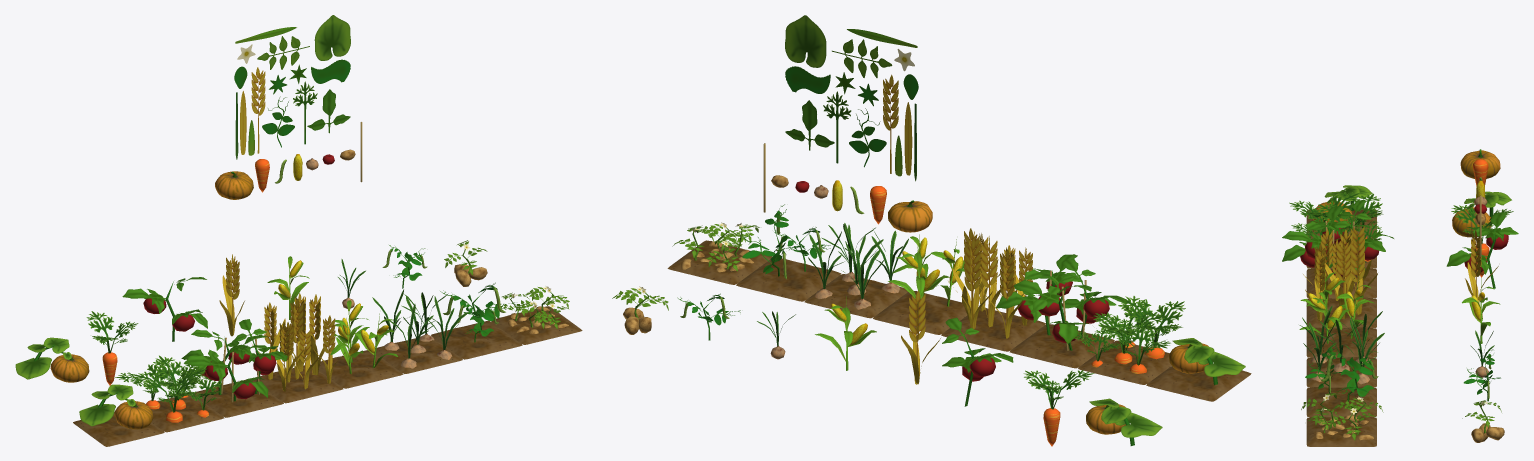
Rendered from farm_plants.glb.
3 views of the same model, side by side, from view 1: azimuth 30°, elevation 25°; view 2: azimuth 150°, elevation 25°; view 3: azimuth 270°, elevation 25° (orthographic). The views are drawn at different scales.
Visible parts, largest first — view 1: Bed_low, Wheat, Tomato, Carrot, Onion, Pumpkin_single, Pumpkin, Corn, Potato, Tomato_single, Pumpkin_leaf, Peas (+10 smaller); view 2: Bed_low, Tomato, Wheat, Carrot, Onion, Potato, Pumpkin_single, Pumpkin, Corn, Pumpkin_leaf, Tomato_single, Peas (+10 smaller); view 3: Bed_low, Wheat, Tomato, Carrot, Onion, Potato, Corn, Peas, Tomato_single, Pumpkin_single, Potato_single, Pumpkin_low (+7 smaller).
Part boxes in pixels (box(x1,y1,x2,y2)): Bed_low: box(73, 306, 582, 446); Wheat: box(252, 293, 344, 391); Tomato: box(181, 319, 287, 402); Carrot: box(115, 355, 221, 422); Onion: box(372, 289, 468, 368); Pumpkin_single: box(15, 337, 89, 382); Pumpkin: box(79, 384, 153, 429); Corn: box(329, 297, 397, 373); Potato: box(500, 286, 569, 333); Tomato_single: box(122, 277, 207, 341); Pumpkin_leaf: box(314, 15, 350, 60); Peas: box(440, 282, 516, 342); Bed_low: box(667, 240, 1251, 401); Tomato: box(996, 254, 1126, 350); Wheat: box(948, 228, 1032, 338); Carrot: box(1074, 296, 1185, 373); Onion: box(808, 223, 908, 309); Potato: box(672, 222, 759, 272); Pumpkin_single: box(1086, 398, 1162, 445); Pumpkin: box(1169, 338, 1245, 385); Corn: box(888, 234, 964, 306); Pumpkin_leaf: box(785, 15, 826, 67); Tomato_single: box(942, 317, 1013, 406); Peas: box(741, 204, 837, 278); Bed_low: box(1306, 209, 1376, 446); Wheat: box(1303, 226, 1377, 320); Tomato: box(1282, 200, 1393, 278); Carrot: box(1289, 191, 1383, 261); Onion: box(1299, 305, 1384, 384); Potato: box(1301, 392, 1383, 440); Corn: box(1299, 269, 1374, 343); Peas: box(1305, 344, 1378, 401); Tomato_single: box(1446, 212, 1518, 288); Pumpkin_single: box(1452, 191, 1511, 237); Potato_single: box(1462, 400, 1504, 442); Pumpkin_low: box(1460, 149, 1500, 178).
Bounding box in the file's own units: 8.22 × 5.15 × 3.41.
Materials: 2 (2 with a texture image).
